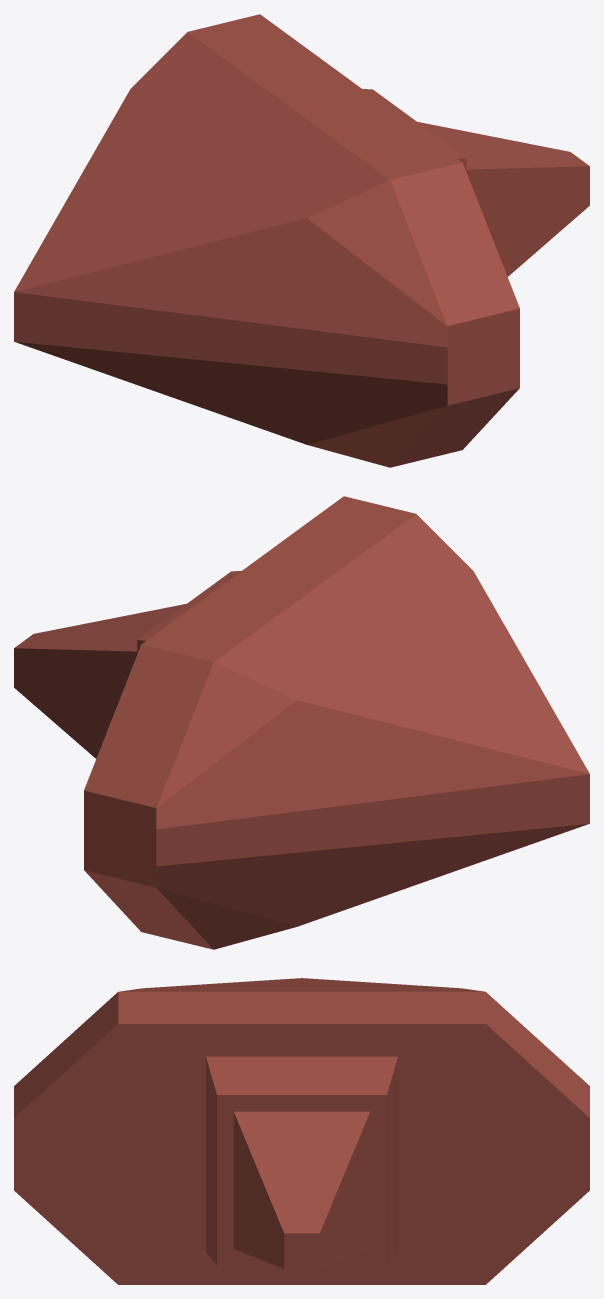
File: Cent_ArrowR.fbx
3 views of the same model, one above another, from view 1: azimuth 30°, elevation 25°; view 2: azimuth 150°, elevation 25°; view 3: azimuth 270°, elevation 25° (orthographic). The views are drawn at different scales.
Visible parts, largest first — view 1: Cent_ArrowR; view 2: Cent_ArrowR; view 3: Cent_ArrowR.
Boxes of the visible parts, bbox=[...] form: Cent_ArrowR: bbox=[14, 14, 589, 467]; Cent_ArrowR: bbox=[14, 496, 589, 949]; Cent_ArrowR: bbox=[14, 978, 589, 1284].
Bounding box in the file's own units: 20.6 × 10 × 20.
